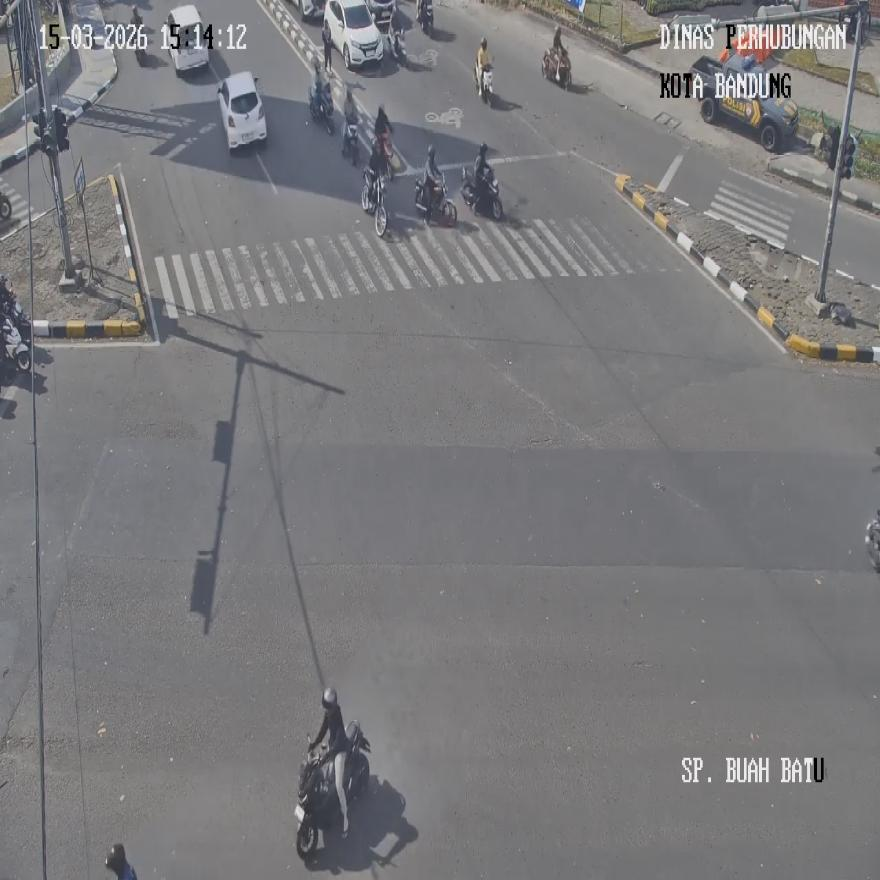Mobil: (217, 72, 267, 153)
Motor: (294, 721, 370, 859), (460, 165, 503, 220), (414, 174, 456, 228), (362, 166, 388, 237), (0, 315, 31, 374), (308, 82, 334, 134), (542, 46, 570, 90), (341, 115, 359, 165), (386, 21, 406, 66), (865, 509, 880, 569), (475, 60, 492, 104), (130, 19, 146, 64), (415, 0, 432, 35)
